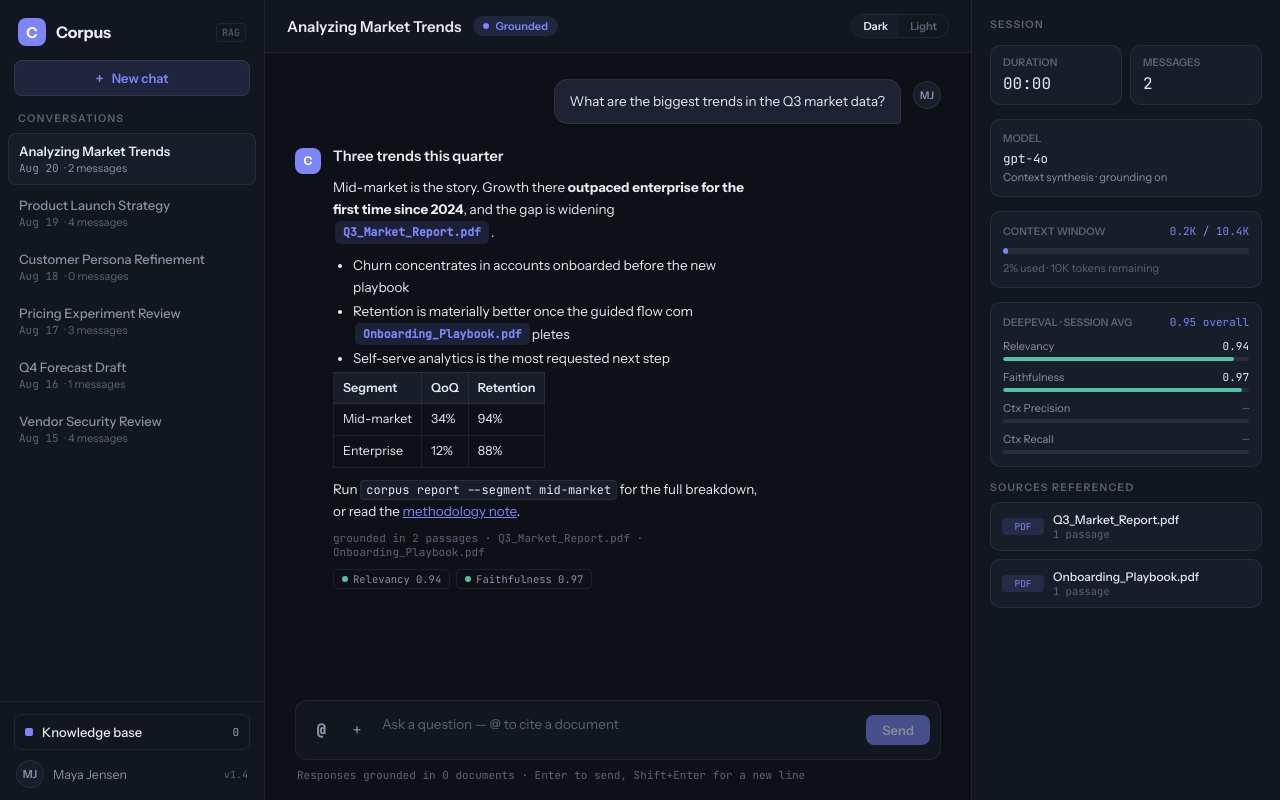
Test case: §4.6 stats panel wiring (T-507) › derives the message count and the sources from the active chat
The image size is (1280, 800).
Expected: the heading "Analyzing Market Trends" is shown, [287,16,461,36]
Expected: the text "0.2K / 10.4K" is shown, [1170,224,1249,238]
Click the button "Customer Persona Refinement Aug 18 · 0 messages": (132, 267) [8,241,256,293]
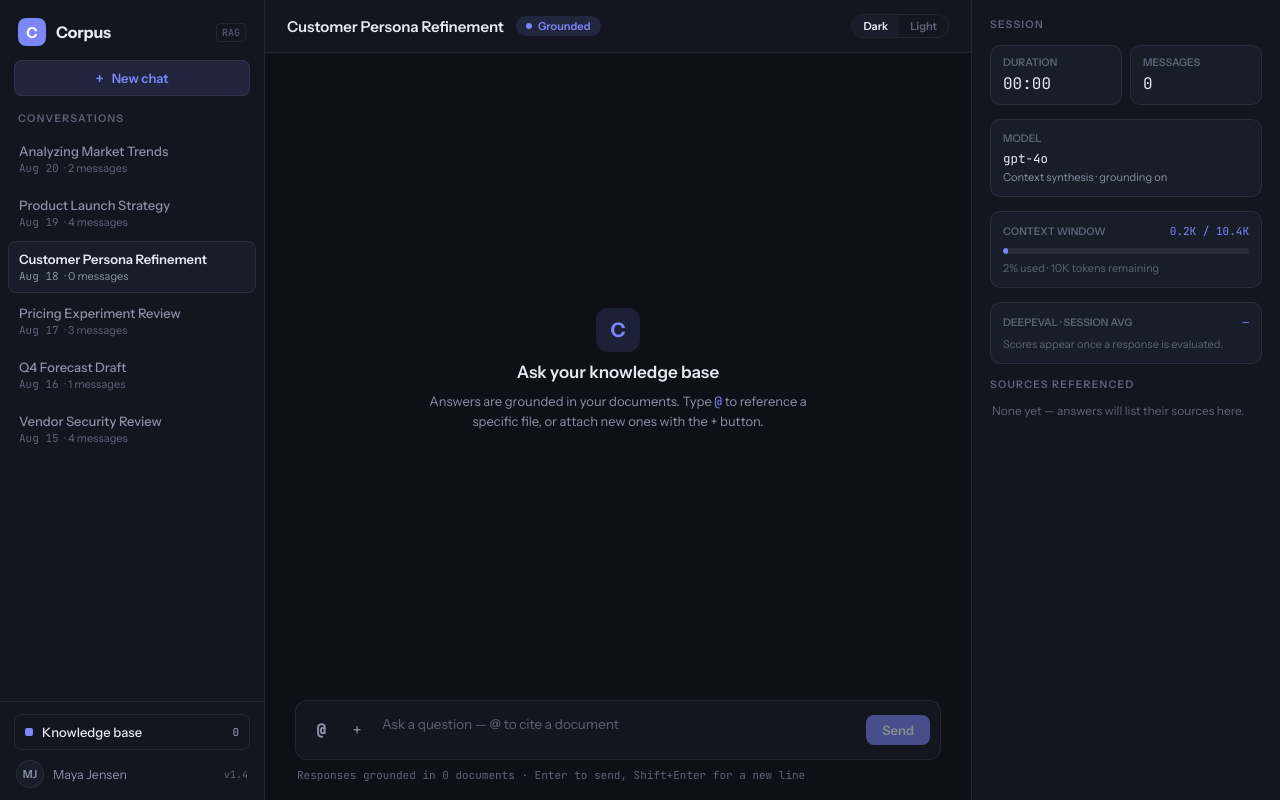
Expected: the text "0.2K / 10.4K" is shown, [1170,224,1249,238]
Now the heading "Customer Persona Refinement" is shown, box [287,16,504,36]
Now the text "None yet — answers will list their sources here." is shown, box [990,399,1262,422]
